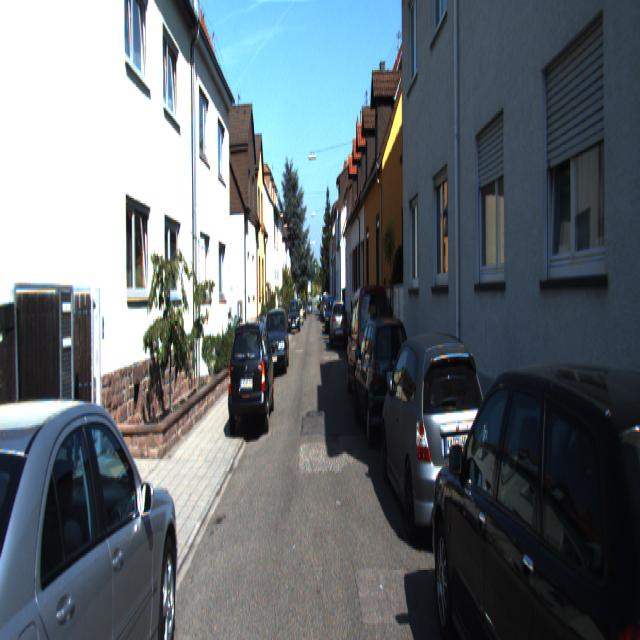Car: (430, 334, 640, 638), (0, 362, 184, 638), (379, 319, 493, 558), (354, 307, 416, 455), (228, 313, 274, 435), (263, 304, 289, 375), (330, 300, 348, 350), (288, 297, 300, 333)
DontCare: (300, 277, 330, 347)
Van: (347, 283, 391, 417)
